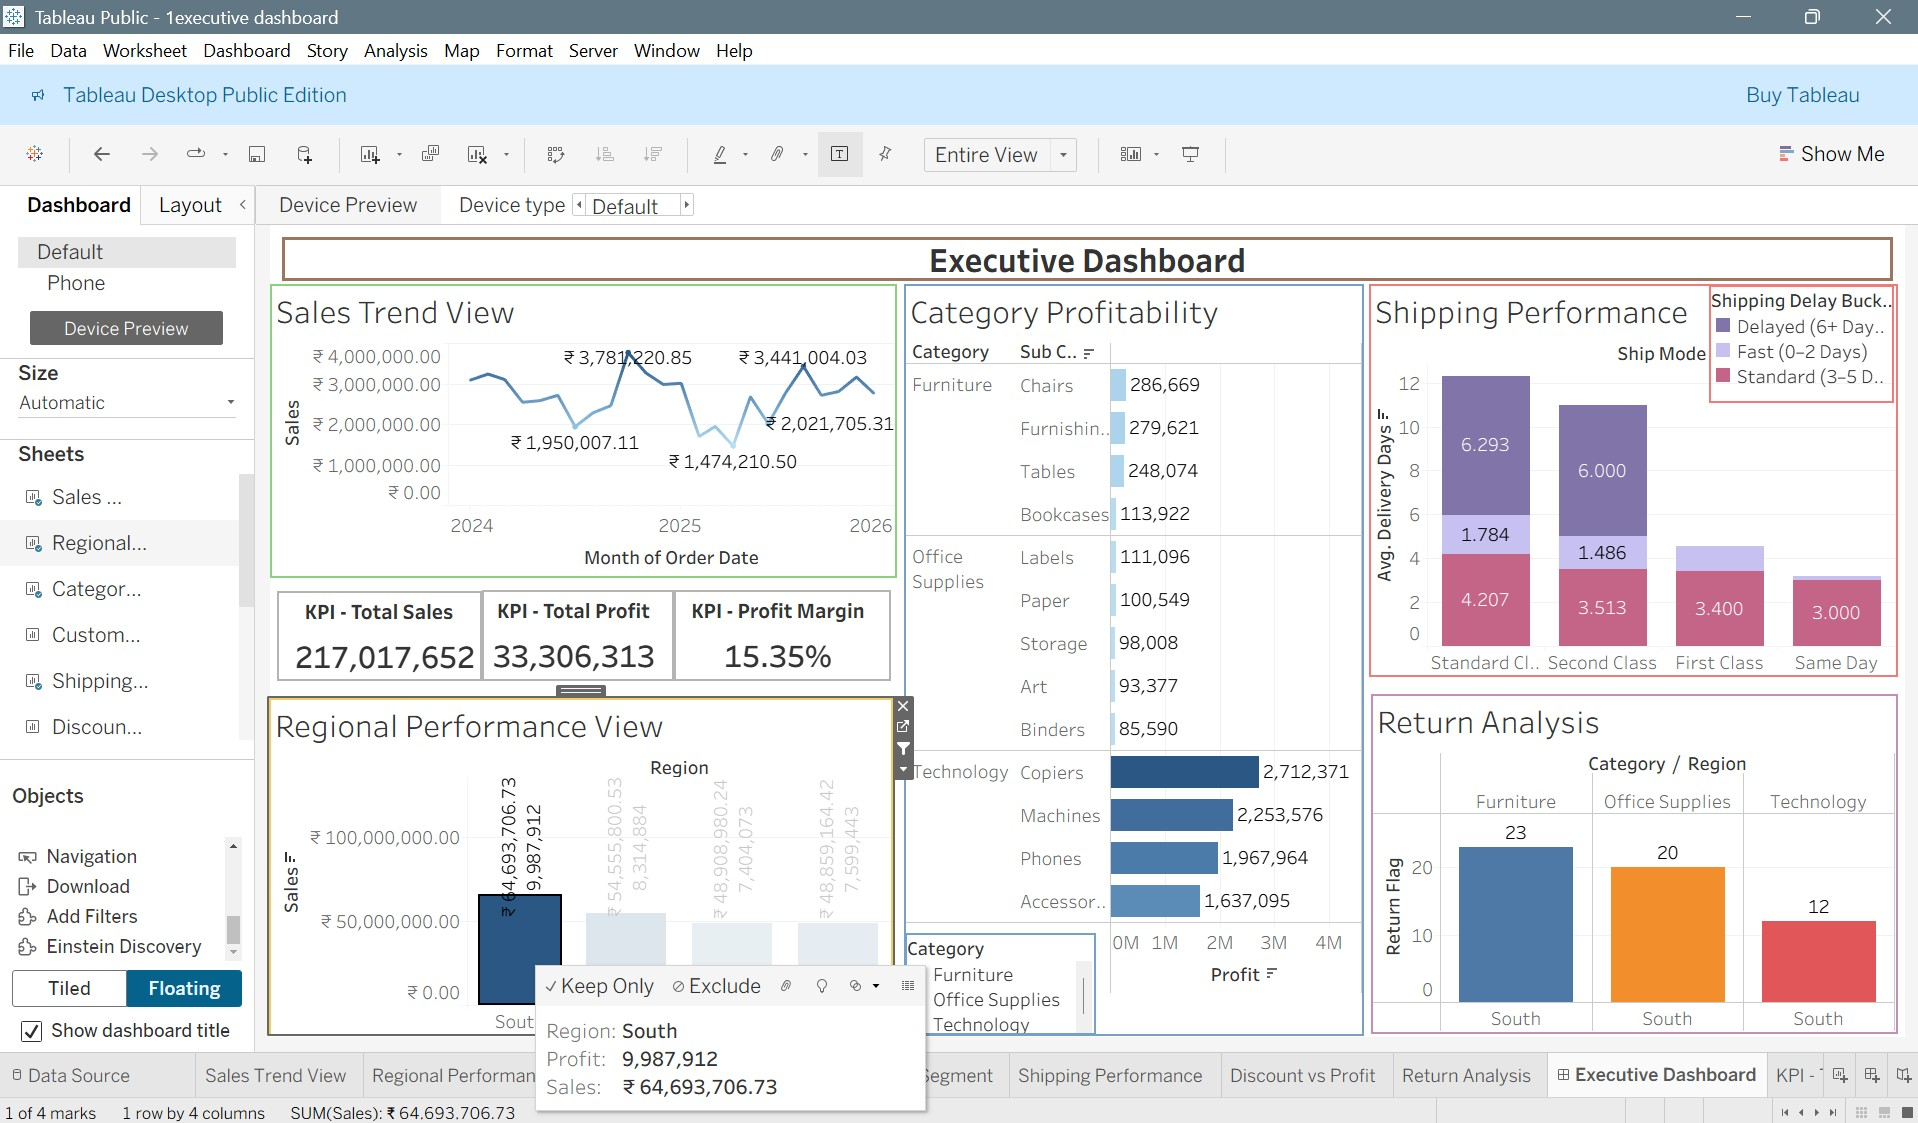

This screenshot's page, from the dashboard's own definition file:
{"tool":"tableau","page":{"name":"Executive Dashboard","canvas":[1000,1000],"units":"permille","ordinal":0},"visuals":[{"type":"title","box":[5.1,9.8,989.8,64]},{"type":"worksheet","title":"Sales Trend View","mark":"Automatic","rows":["sales"],"cols":["order_date"],"box":[0,72.7,383.5,362.1]},{"type":"worksheet","title":"Category Profitability","mark":"Automatic","rows":["category","sub_category"],"cols":["profit"],"box":[387.8,72.7,281.4,926.1]},{"type":"worksheet","title":"Shipping Performance","mark":"Automatic","rows":["delivery_days"],"cols":["ship_mode"],"box":[672.2,72.7,323.6,484]},{"type":"legend","title":"Shipping Performance","param":"[federated.0s5ky0p1k2tq9611wm3dv0gju01t].[none:Calculation_0455764223348739:nk]","box":[880.1,73.9,113.2,145.3]},{"type":"worksheet","title":"KPI - Total Profit","mark":"Automatic","box":[129.7,449.5,117.4,112.1]},{"type":"worksheet","title":"KPI - Profit Margin","mark":"Automatic","box":[247.1,449.5,132.7,112.1]},{"type":"worksheet","title":"KPI - Total Sales","mark":"Automatic","box":[4.3,450.7,125.4,110.8]},{"type":"worksheet","title":"Return Analysis","mark":"Automatic","rows":["return_flag"],"cols":["category","region"],"box":[673.4,577.6,322.3,418.7]},{"type":"legend","title":"Return Analysis","param":"[federated.0s5ky0p1k2tq9611wm3dv0gju01t].[none:category:nk]","box":[388.4,871.9,116.8,125.6]}]}

Visuals, with their boxes on the dashboard's canvas, which has no fixed pixel size, in thousandths of its width and height (x1, y1, x2, y2). These are canvas units, not pixel positions in the 1918x1123 screenshot, which may show the page scaled, cropped or inside an application window:
title: Rect(5, 10, 995, 74)
"Sales Trend View" worksheet: Rect(0, 73, 384, 435)
"Category Profitability" worksheet: Rect(388, 73, 669, 999)
"Shipping Performance" worksheet: Rect(672, 73, 996, 557)
"Shipping Performance" legend: Rect(880, 74, 993, 219)
"KPI - Total Profit" worksheet: Rect(130, 450, 247, 562)
"KPI - Profit Margin" worksheet: Rect(247, 450, 380, 562)
"KPI - Total Sales" worksheet: Rect(4, 451, 130, 562)
"Return Analysis" worksheet: Rect(673, 578, 996, 996)
"Return Analysis" legend: Rect(388, 872, 505, 998)
